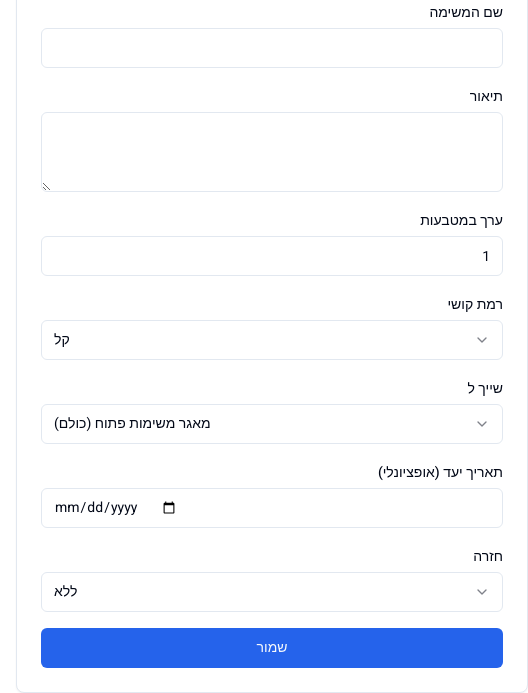
Scenario: ChoreFormPage — create mode › shows member checkboxes (no days) when daily recurrence is selected
(page scrolled)
Click the dropdown named "סוג חזרה". click: x=66, y=592
box: [41,572,503,612]
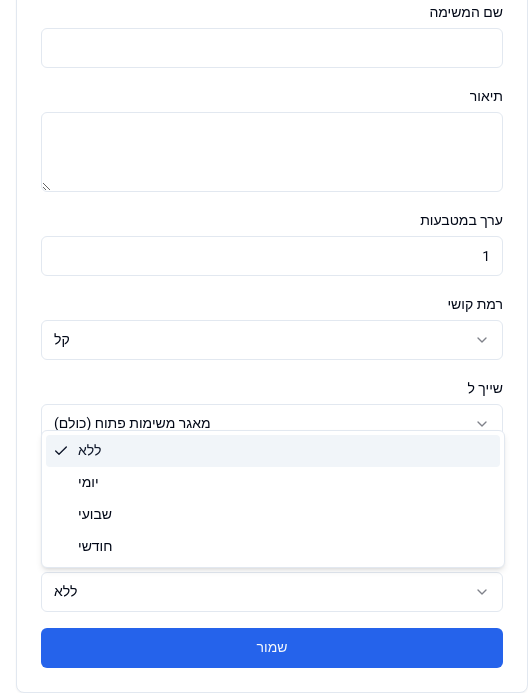
Check: the option "יומי" is shown
Click the option "יומי". click: x=88, y=482
box: [78,472,98,493]
(page scrolled)
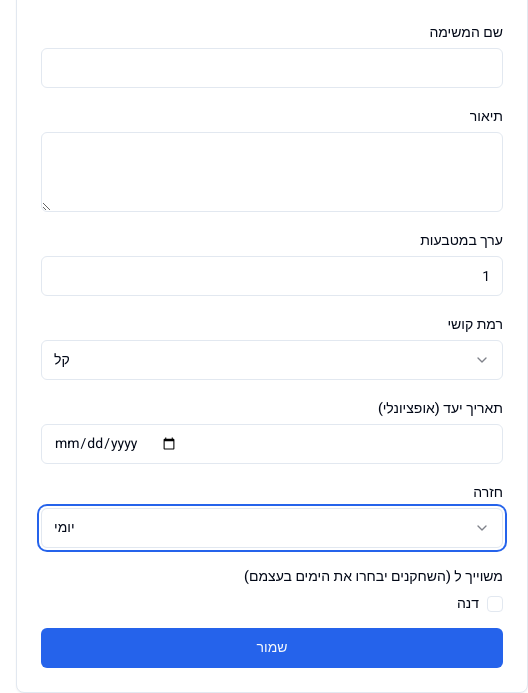
Check: the checkbox is shown, box [487,596,503,612]
